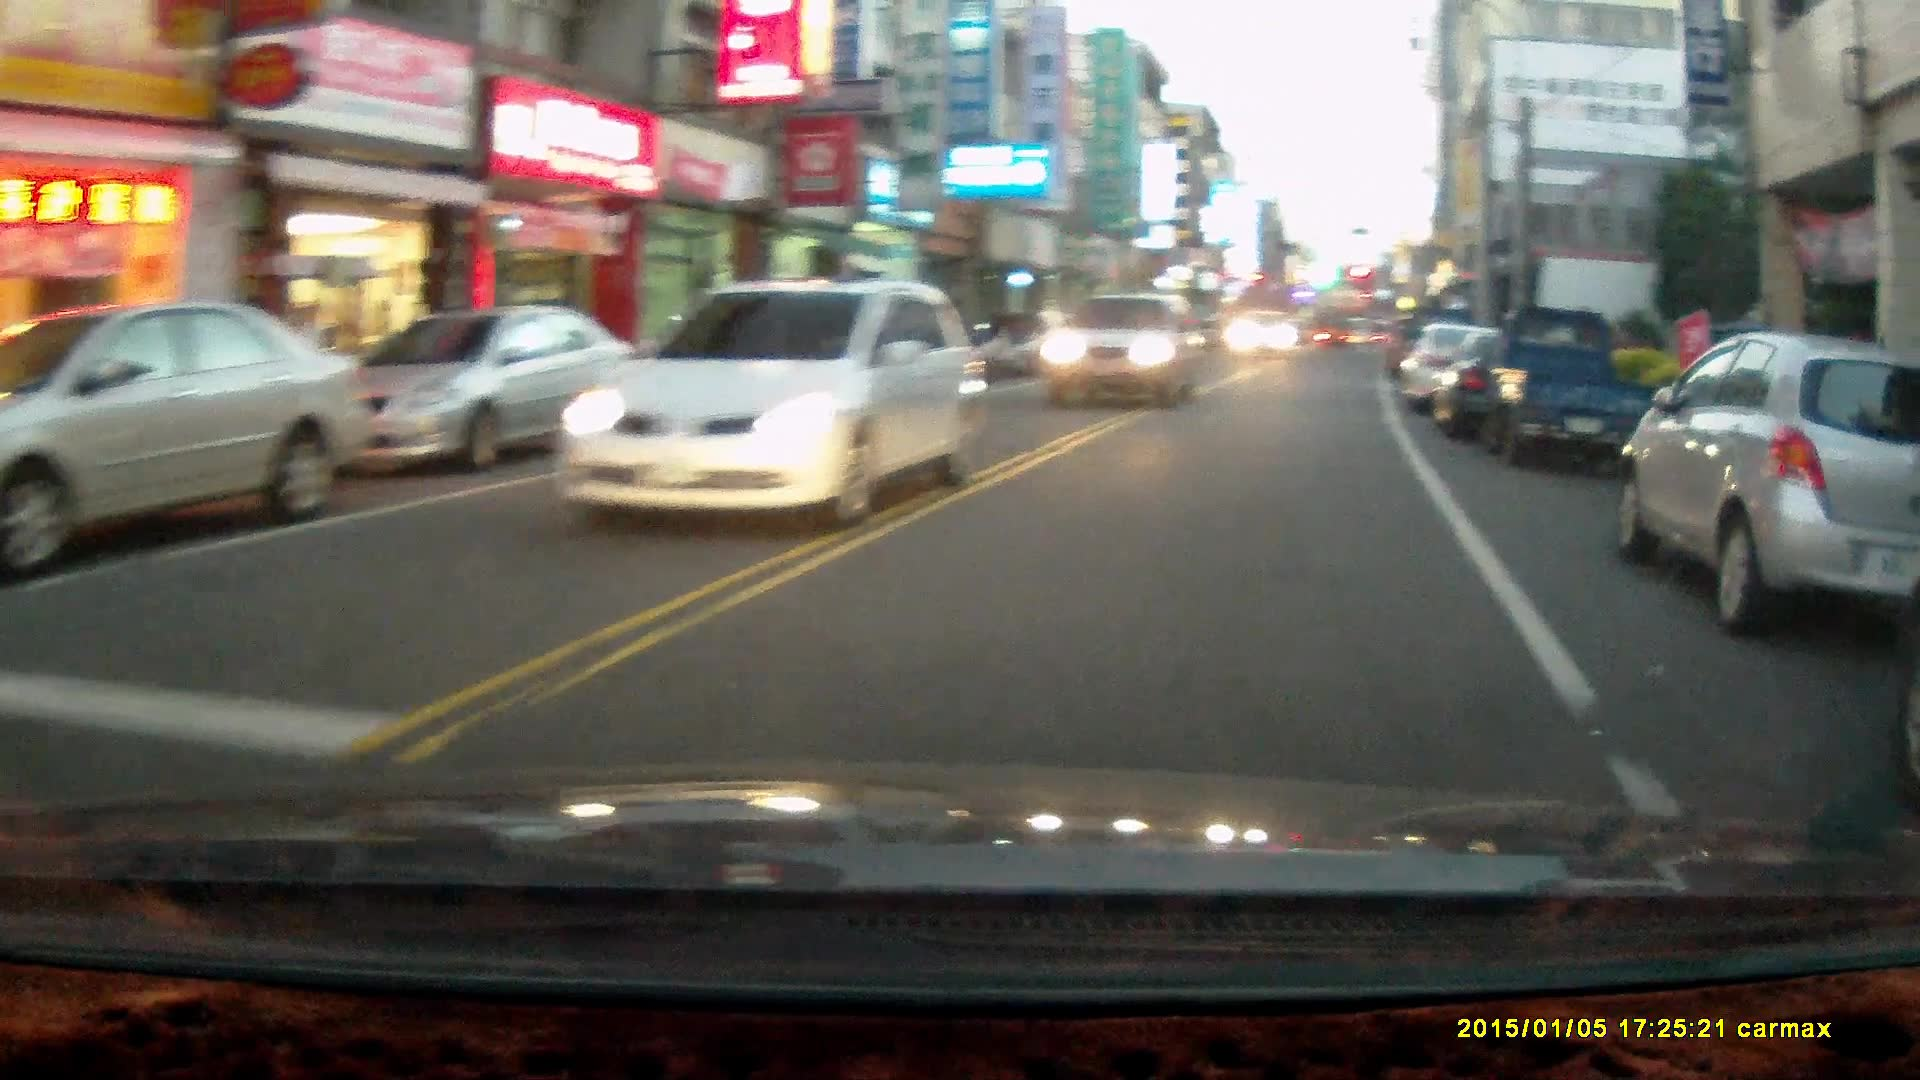vehicle: (549, 284, 982, 535), (3, 303, 372, 574), (1607, 334, 1920, 646), (326, 309, 634, 483), (1473, 310, 1658, 475), (1036, 295, 1211, 414), (1398, 316, 1548, 418), (1226, 314, 1302, 365)
